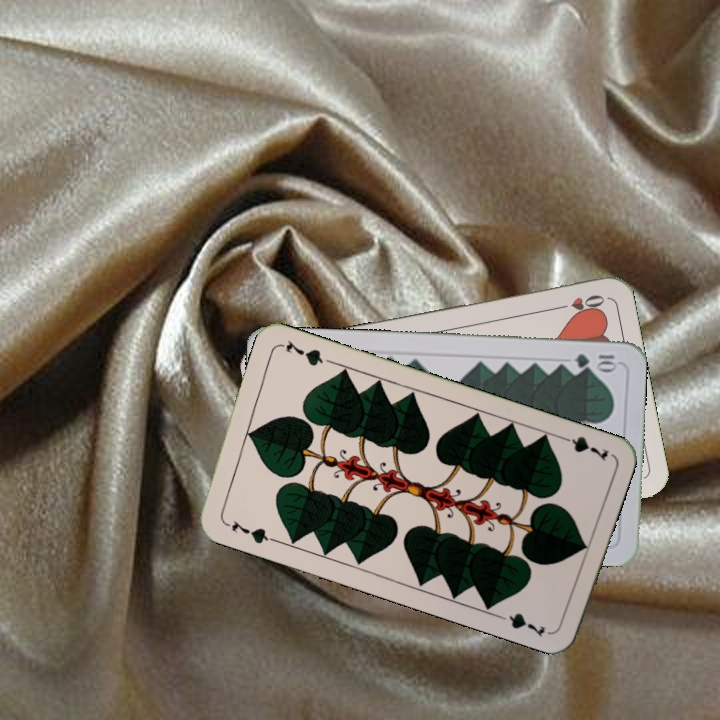G10: (570, 350, 620, 372)
G7: (554, 431, 611, 464), (220, 516, 277, 547)
HO: (549, 290, 608, 316)
